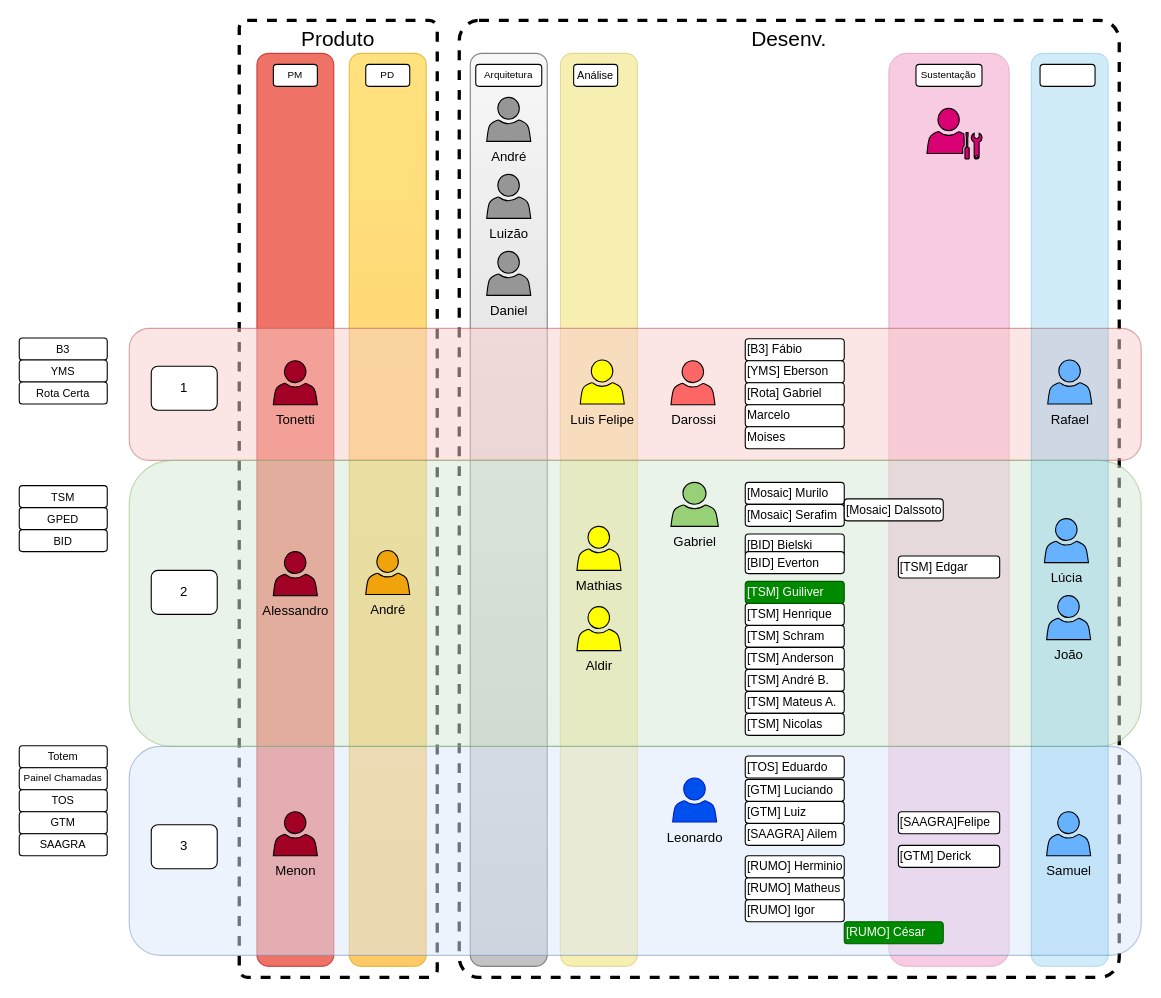
Some shapes in this 1161 by 998 pixel diagram are drawn without their labels. Each missing label, with the centre of its shape:
"Guilherme" goes at point (954, 133).
"QA" goes at point (1067, 74).
